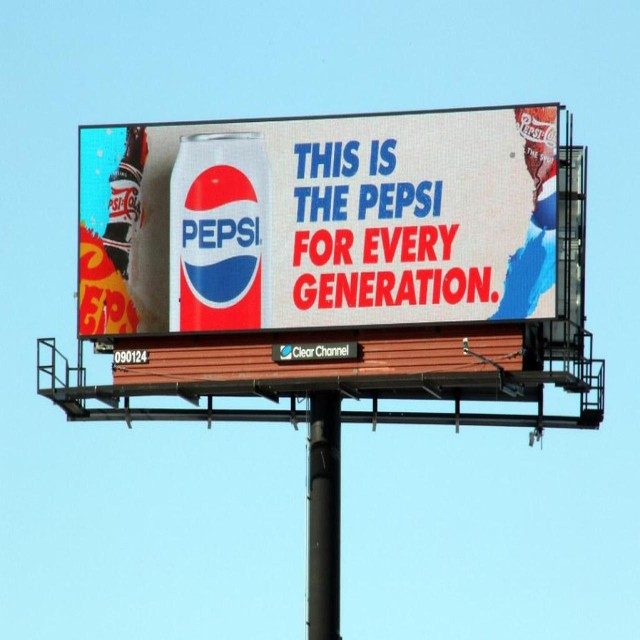pepsi: (181, 163, 260, 303)
